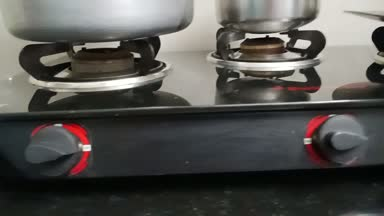flame_gas_off: (7, 31, 166, 182), (217, 22, 374, 171)
